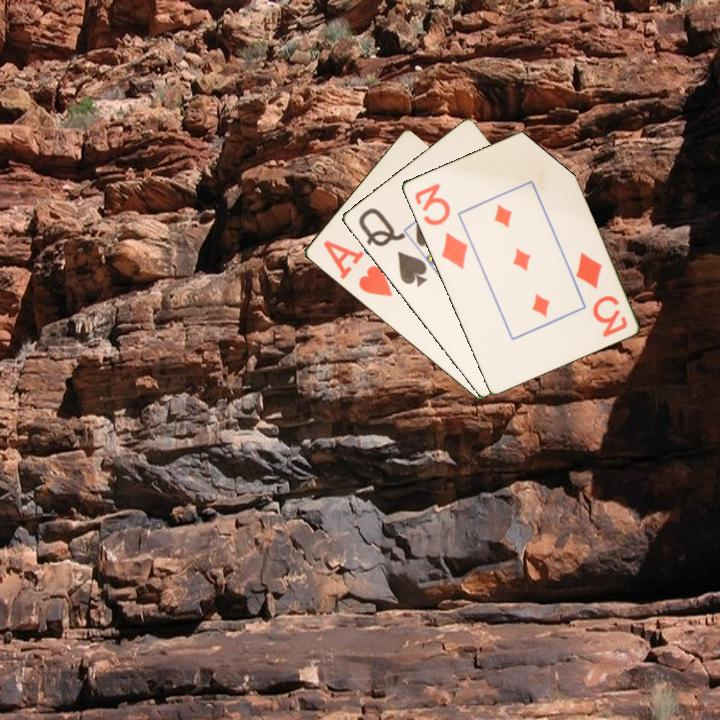3d: (411, 179, 471, 272), (572, 248, 630, 340)
Ah: (319, 236, 395, 300)
Qs: (354, 204, 430, 290)
